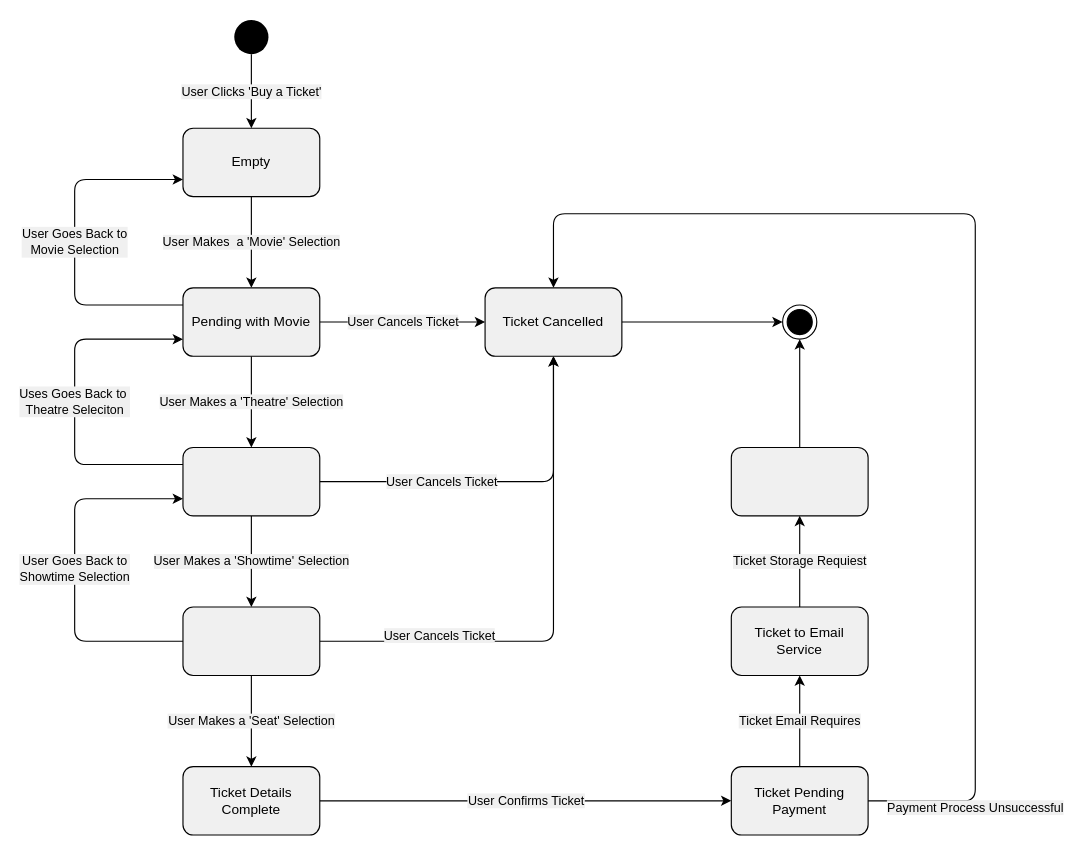
Image size: 1083x855. Some labels were removed from this diagram. The centre of each missing label's shape, as x and y in pixels:
"Pending with Movie and Theatre" goes at (x=251, y=481).
"Pending with Movie, Theatre, and Showtime" goes at (x=251, y=640).
"Ticket Saved to Database" goes at (x=799, y=481).
